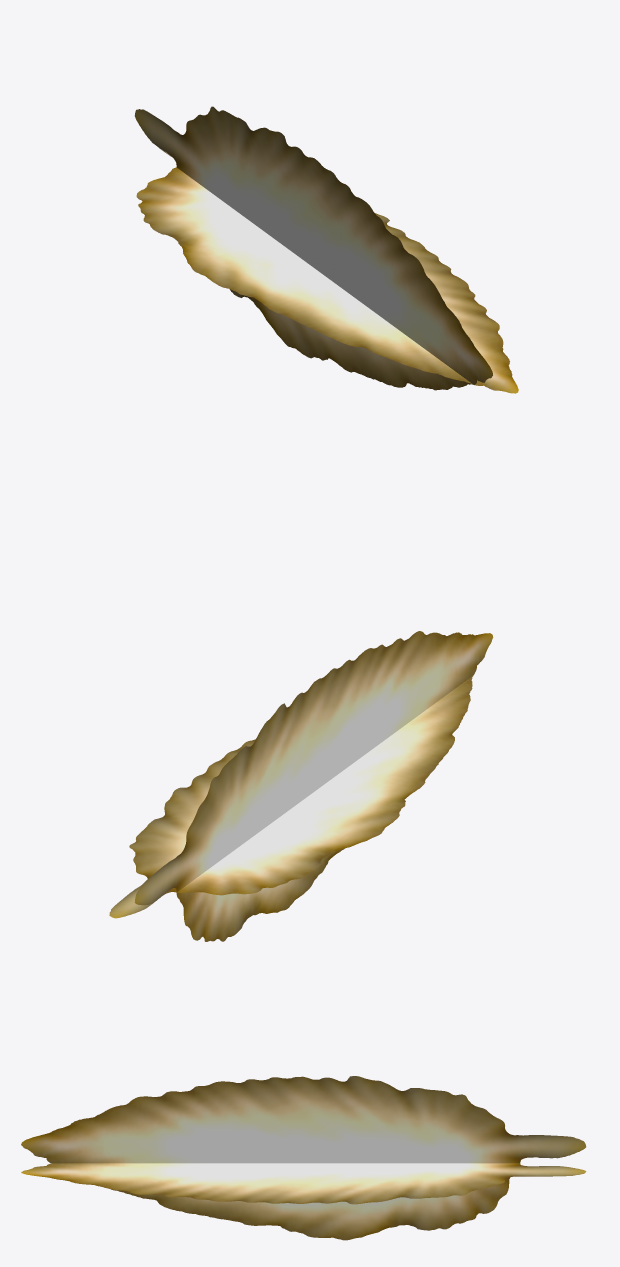
File: yumao.FBX
3 renders of one model, top to bottom at view 1: azimuth 30°, elevation 25°; view 2: azimuth 150°, elevation 25°; view 3: azimuth 270°, elevation 25°, orthographic. The views are drawn at different scales.
Parts seen in each view (by area): view 1: Plane001; view 2: Plane001; view 3: Plane001.
Boxes of the visible parts, box(x1,y1,x2,y2) form: Plane001: box(134, 106, 518, 393); Plane001: box(109, 631, 493, 941); Plane001: box(21, 1076, 586, 1240).
Size of the model in its own units: 5 by 5 by 15.
Materials: 1 (1 with a texture image).
